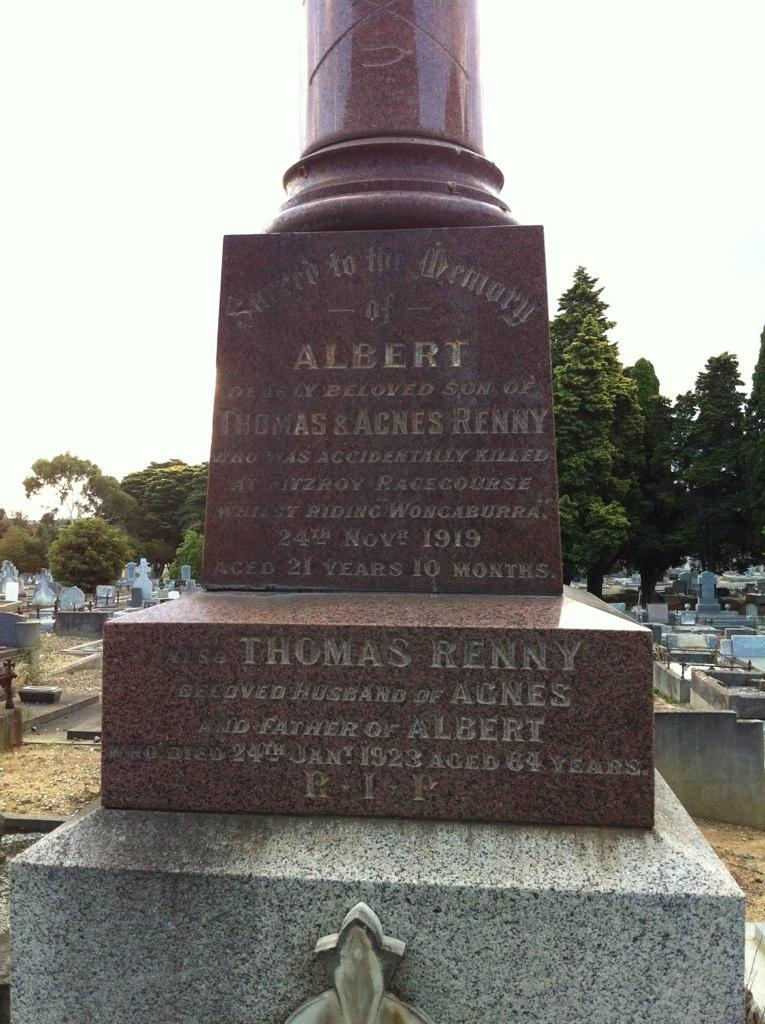obelisk: (12, 0, 743, 1024)
